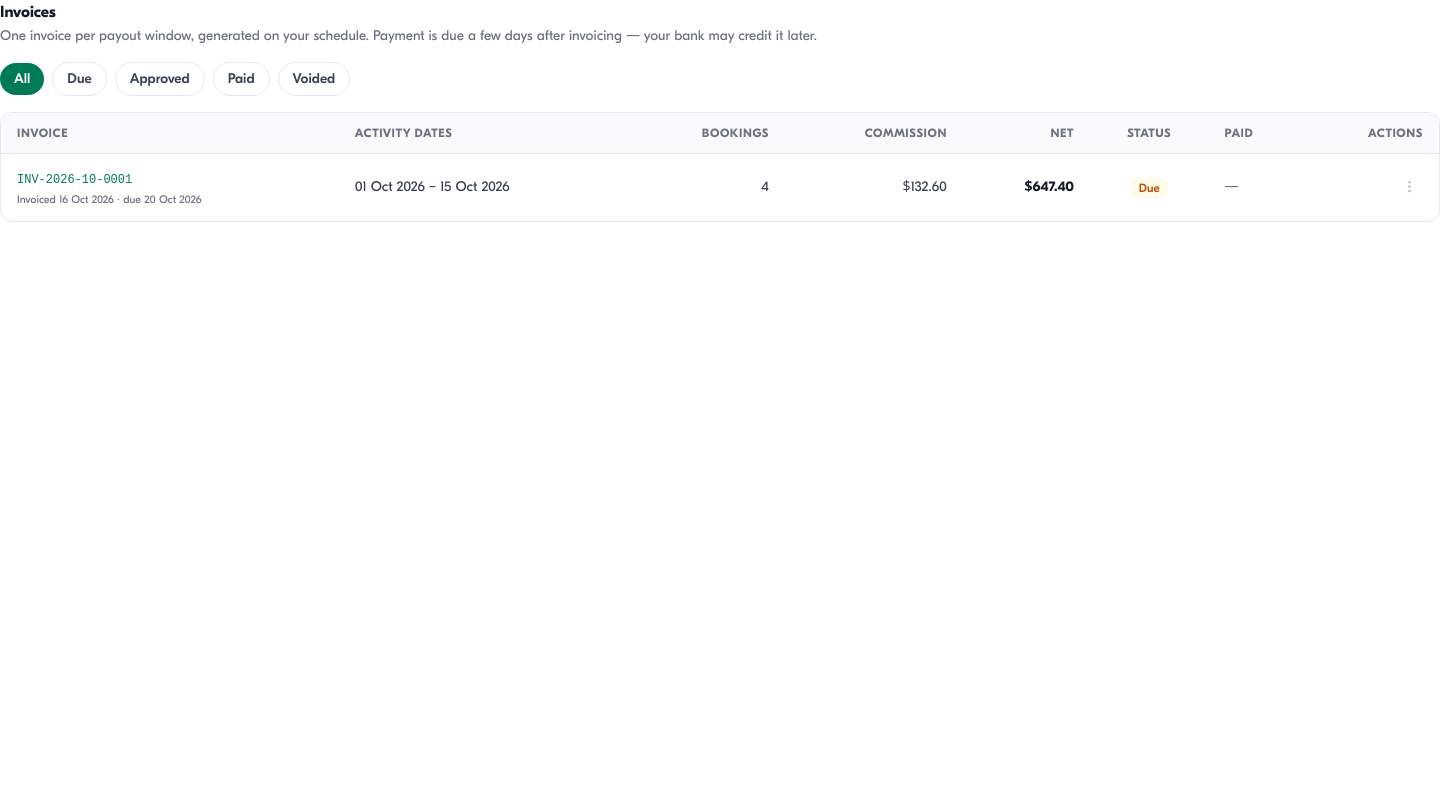
Scenario: InvoicesTab — the detail drawer › opens on the invoice number and lists its bookings with the destination
The width and height of the screenshot is (1440, 810).
Click the button "INV-2026-10-0001" at (75, 180), box [17,172,132,188]
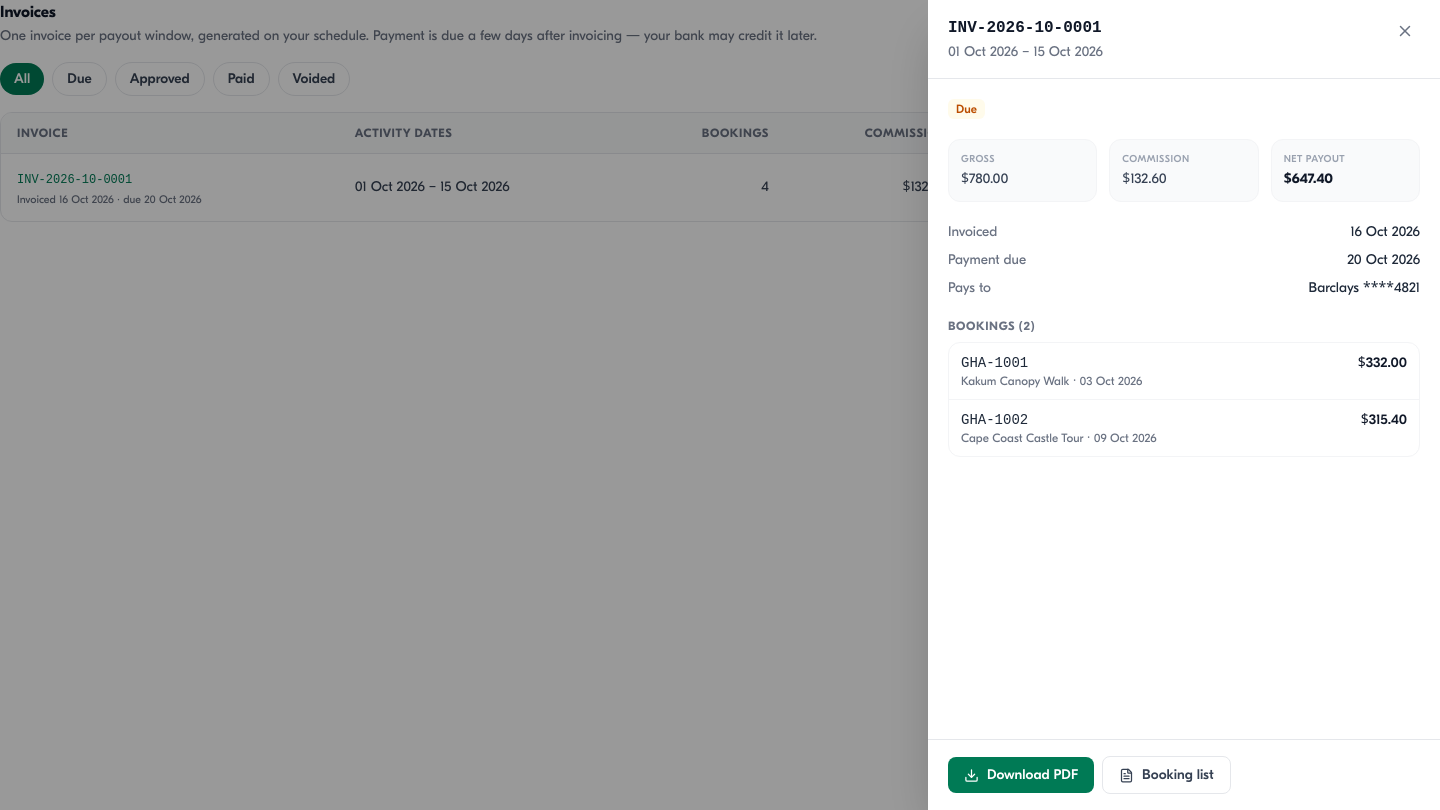
Now the dialog is shown, box [928,0,1439,809]
Now the text "GHA-1001" is shown, box [961,355,1028,371]
Now the text "GHA-1002" is shown, box [961,412,1028,428]
